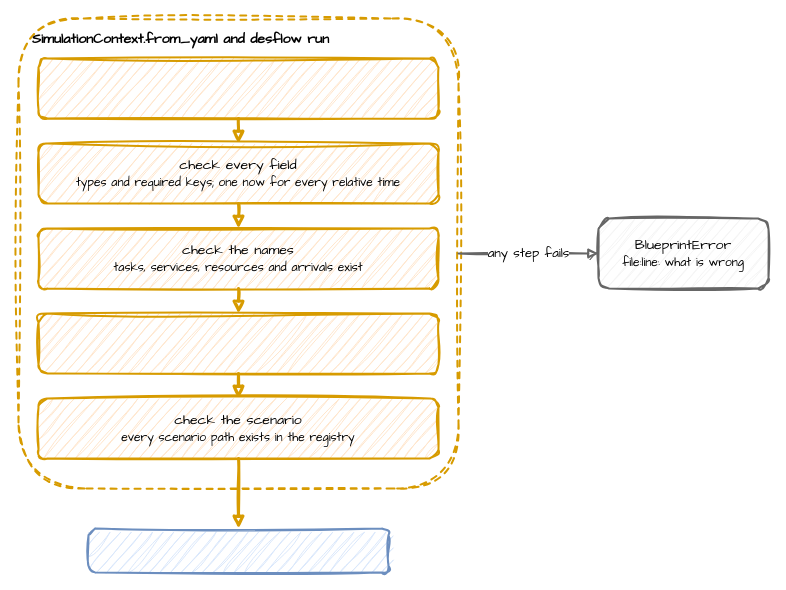
Image size: 786x590. Some labels were removed from this diagram. Each missing label, with the centre of its shape:
build the context the builder calls a script would make: point (238, 343)
read the file ${VAR} replaced, !python imported, lines kept: point (238, 88)
SimulationContext, ready to run: point (238, 550)
